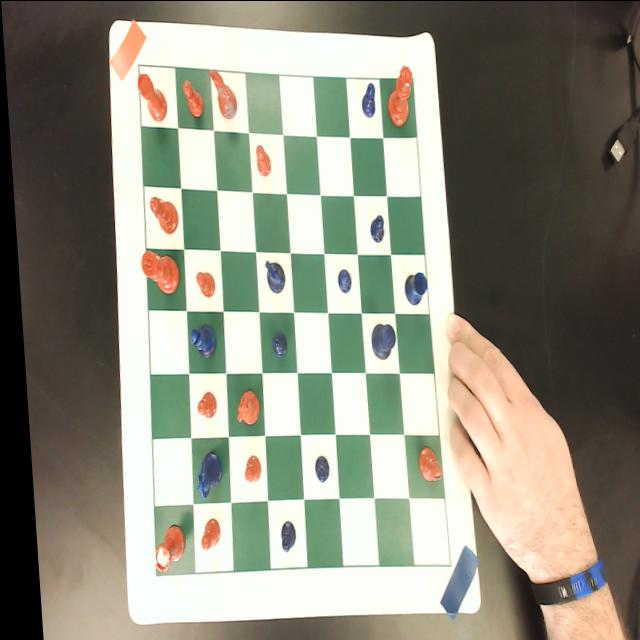B: (184, 324, 212, 359)
K: (365, 322, 391, 360)
N: (187, 449, 217, 500), (259, 258, 281, 294)
P: (358, 78, 376, 118), (271, 518, 289, 552), (365, 213, 382, 243), (306, 452, 323, 482), (265, 330, 283, 356), (332, 268, 348, 294)
R: (398, 270, 424, 304)
b: (144, 195, 176, 238), (410, 446, 436, 482)
cb: (136, 64, 441, 576)
k: (136, 250, 175, 294)
n: (208, 68, 236, 122), (227, 387, 255, 429)
p: (180, 79, 202, 119), (191, 516, 214, 550), (251, 143, 269, 177), (235, 454, 255, 484), (190, 390, 211, 418), (191, 270, 211, 298)
q: (382, 64, 414, 126)
r: (144, 521, 180, 575), (132, 72, 167, 122)
